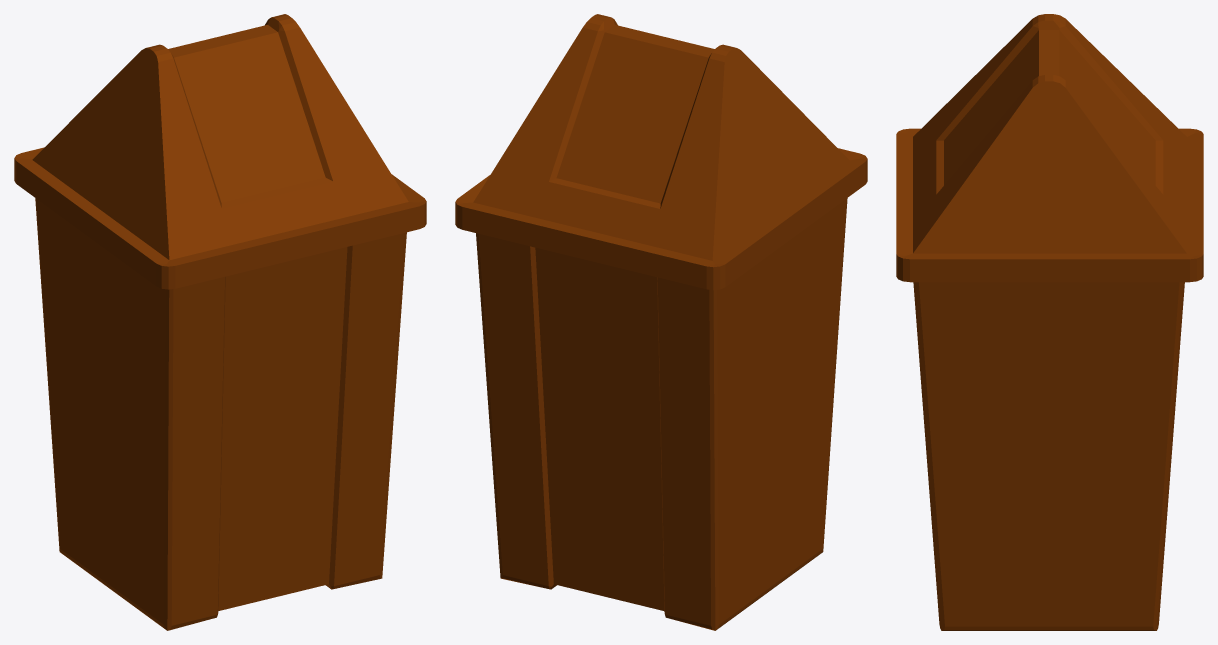
File: Organico.fbx
3 views of the same model, side by side, from view 1: azimuth 30°, elevation 25°; view 2: azimuth 150°, elevation 25°; view 3: azimuth 270°, elevation 25° (orthographic).
Parts seen in each view (by area): view 1: lixo.003; view 2: lixo.003; view 3: lixo.003.
Part boxes in pixels (box(x1,y1,x2,y2)): lixo.003: box(14, 14, 426, 630); lixo.003: box(455, 14, 867, 630); lixo.003: box(896, 14, 1203, 630).
Bounding box in the file's own units: 238 × 237 × 451.
